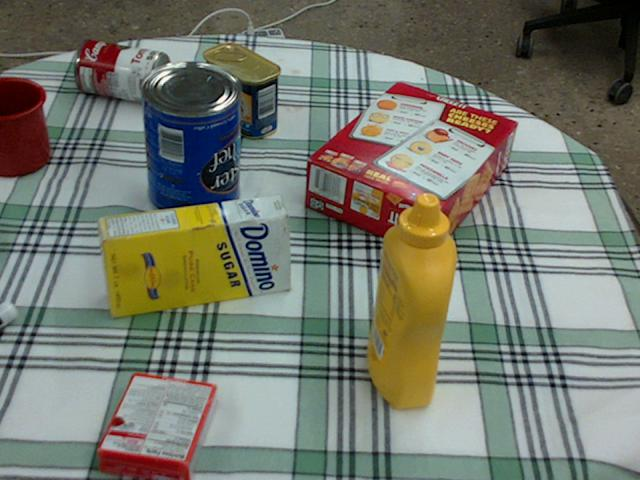cracker_box: (306, 82, 517, 256)
gelatin_box: (96, 372, 215, 479)
large_marker: (0, 301, 17, 327)
master_chef_can: (137, 62, 239, 223)
mug: (0, 76, 51, 174)
mustard_bottle: (367, 192, 456, 406)
potted_meat_can: (202, 43, 280, 138)
sugar_box: (96, 195, 290, 316)
tomato_soup_can: (74, 39, 170, 103)
